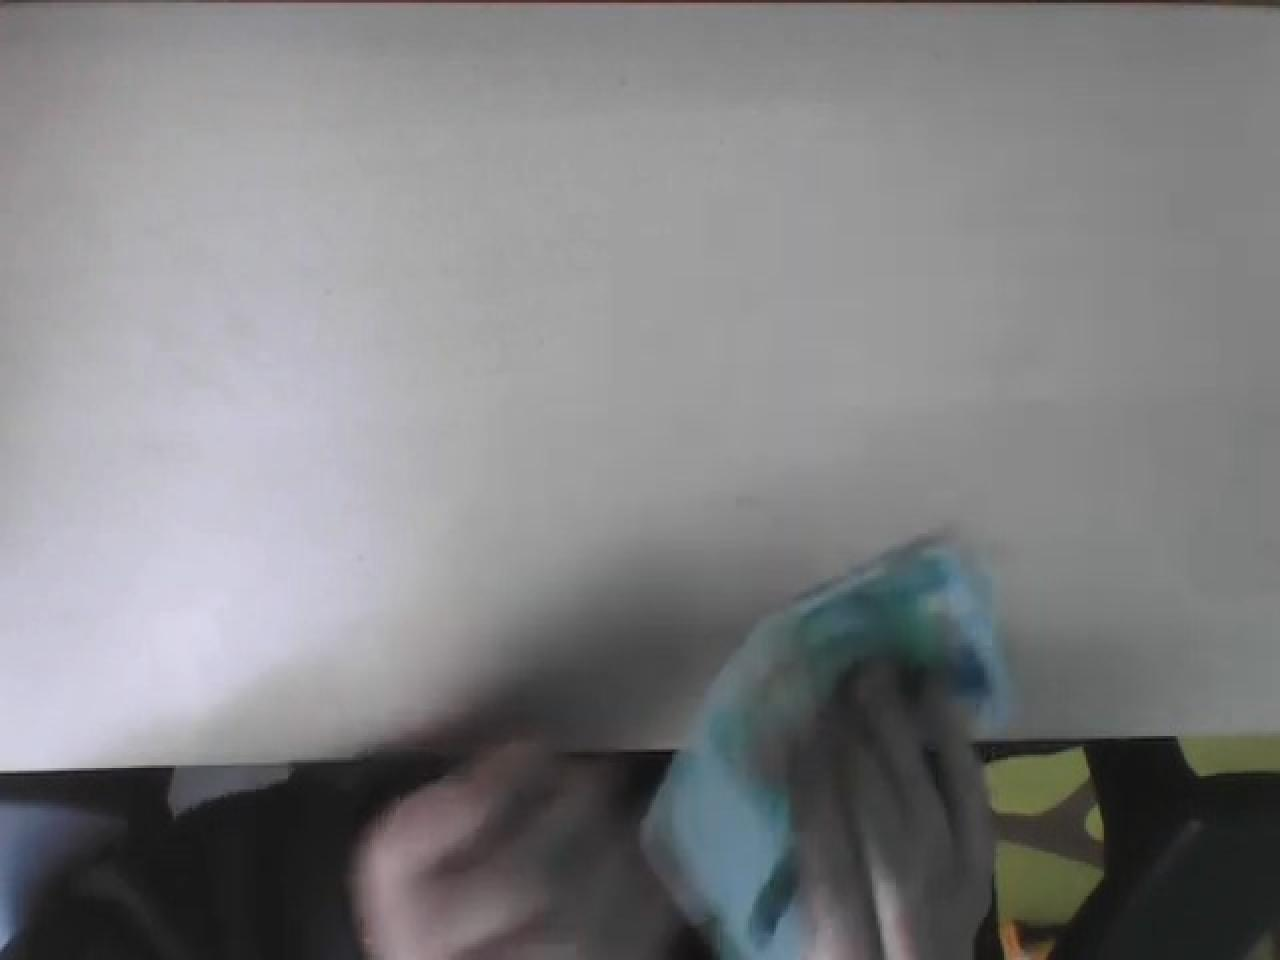100leva: (638, 533, 1014, 960)
